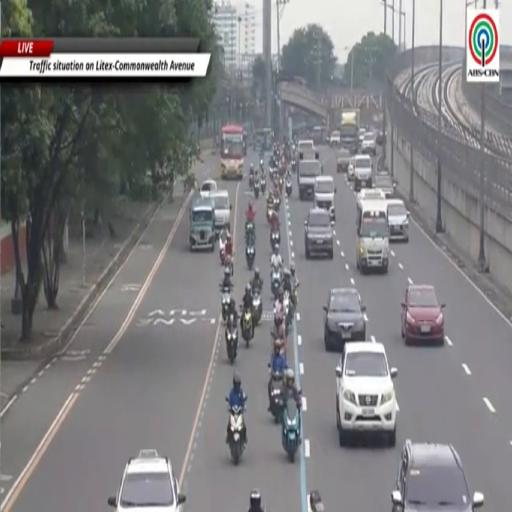bus: (221, 125, 244, 180), (255, 128, 273, 151)
car: (391, 440, 483, 511), (336, 342, 397, 446), (108, 450, 185, 511), (324, 287, 365, 350), (402, 284, 444, 345), (305, 207, 333, 259), (387, 199, 410, 242), (374, 173, 395, 198), (361, 133, 376, 155), (200, 180, 217, 198), (337, 149, 350, 172), (328, 130, 340, 147), (348, 157, 355, 181), (359, 128, 366, 147), (376, 131, 384, 146)
motorcycle: (226, 397, 245, 465), (282, 397, 300, 461), (270, 373, 283, 424), (273, 300, 289, 341), (225, 320, 238, 364), (242, 310, 253, 346), (253, 291, 262, 325), (283, 292, 292, 326), (246, 241, 256, 270), (271, 269, 281, 297), (222, 288, 230, 322), (245, 221, 255, 244), (270, 231, 280, 250), (225, 255, 233, 276), (284, 177, 292, 197), (220, 245, 226, 266), (254, 180, 260, 199), (267, 205, 273, 222), (261, 176, 266, 194), (274, 197, 280, 212), (269, 167, 275, 181), (279, 176, 284, 190), (291, 159, 296, 172), (259, 156, 263, 171), (249, 174, 253, 188)
truck: (357, 189, 389, 273), (297, 152, 322, 200), (340, 109, 360, 154)
